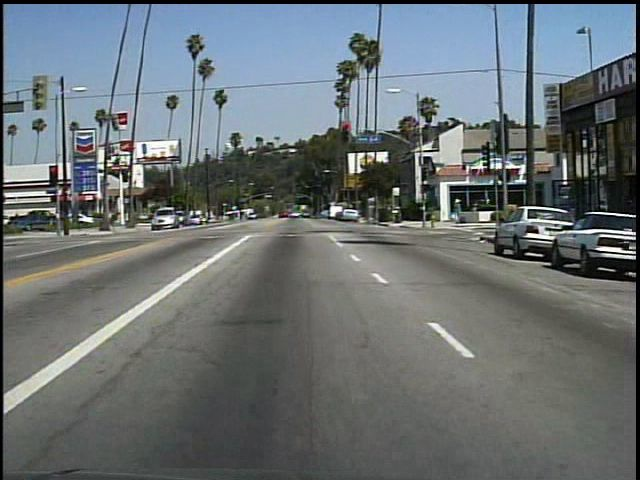person: (448, 195, 464, 227)
